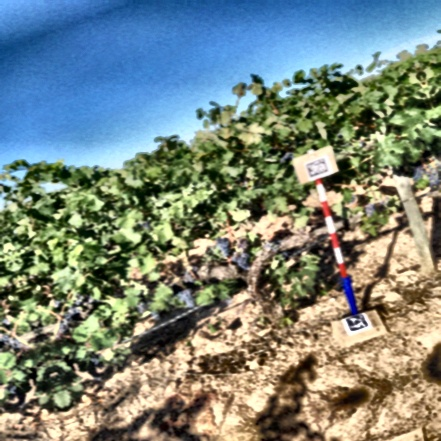QR: (304, 156, 330, 178), (345, 311, 369, 332)
